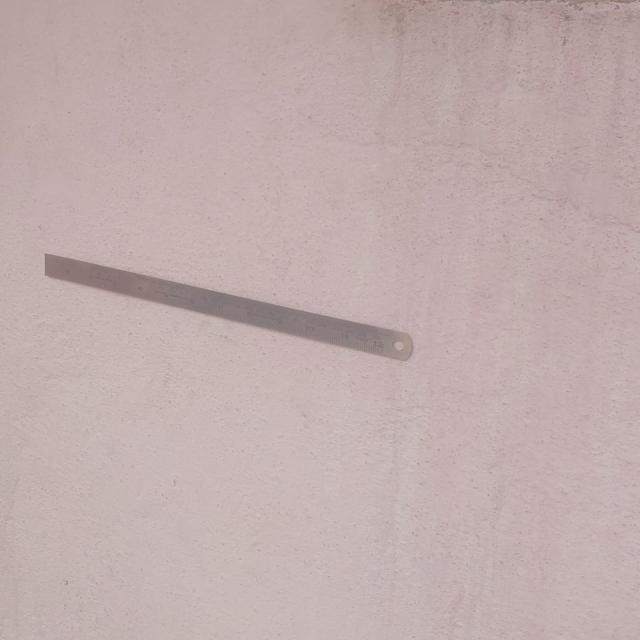scale: (24, 252, 422, 365)
